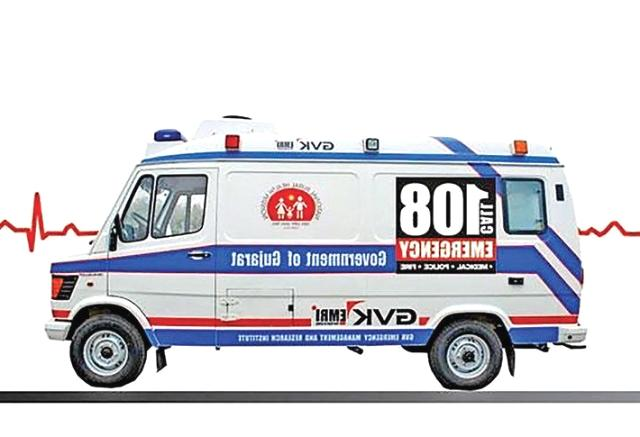ambulance: (40, 112, 594, 392)
